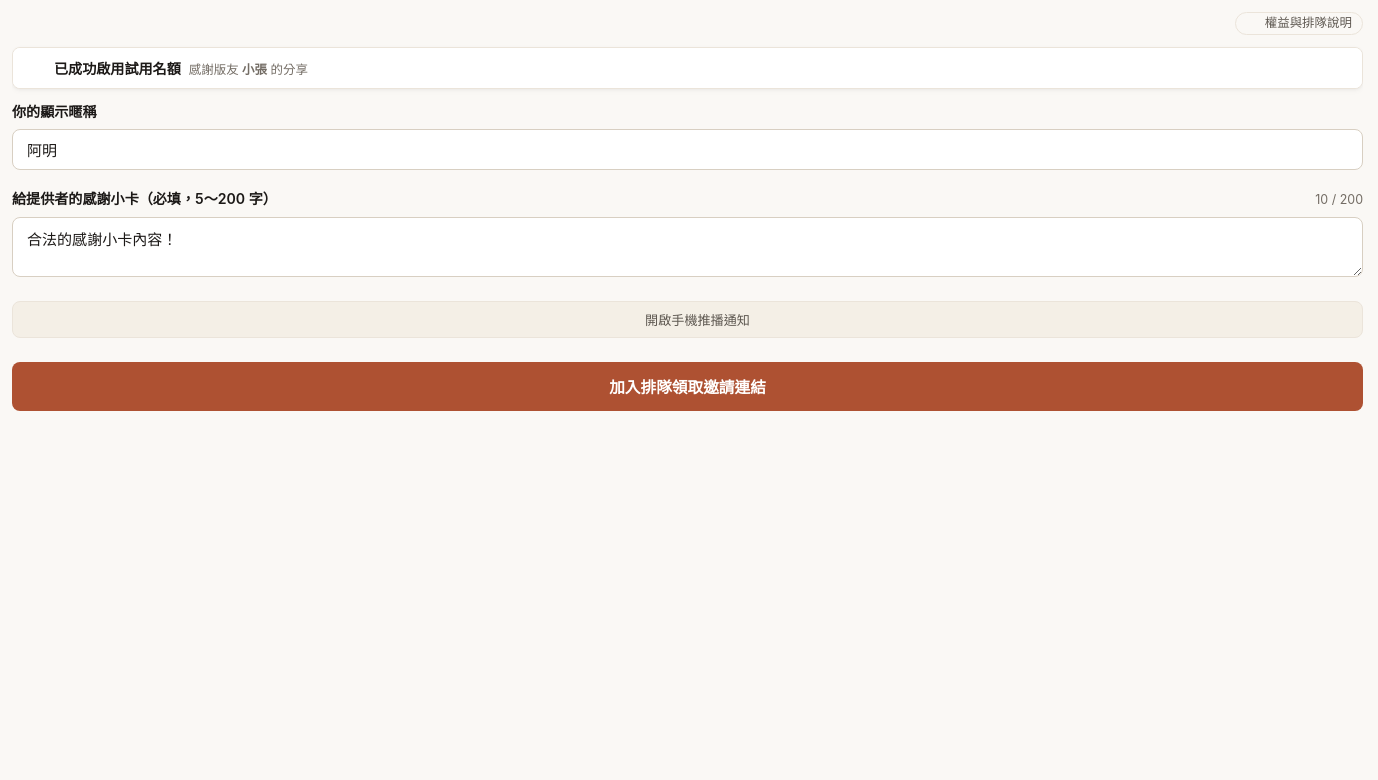
Test: ReceiverPanel 領取歷史卡 › 預設收合，點擊摘要列後展開邀請連結與感謝小卡，再點一次收合
Check: the text "https://claude.ai/referral/rNFlbuU0OA" is not shown
Step 1. Click the button "已成功啟用試用名額 感謝版友 小張 的分享" → [117, 68], box [13,48,1362,88]
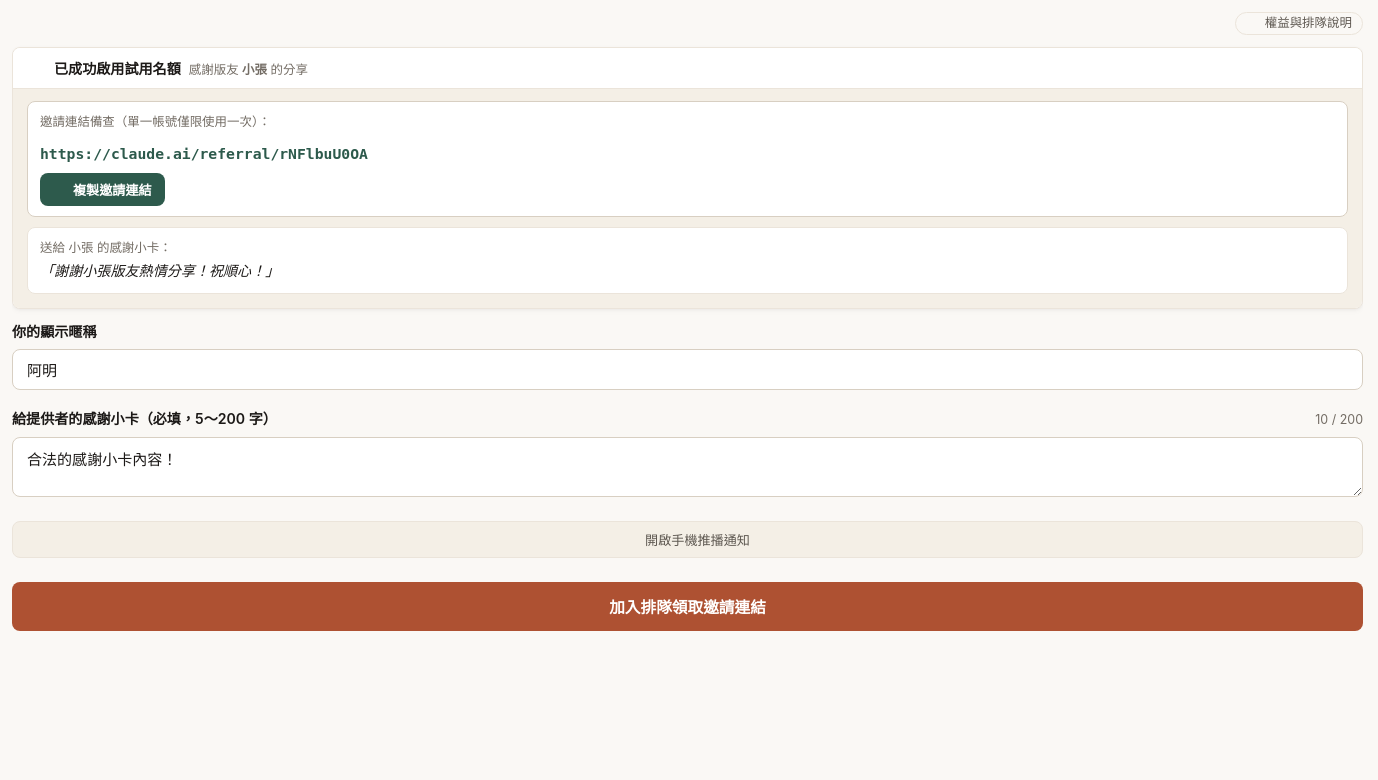
Check: the text "https://claude.ai/referral/rNFlbuU0OA" is shown, box [40,145,368,162]
Check: the text "送給 小張 的感謝小卡：" is shown, box [40,240,172,256]
Check: the text "「謝謝小張版友熱情分享！祝順心！」" is shown, box [40,262,279,280]
Step 2. Click the button "已成功啟用試用名額 感謝版友 小張 的分享" → [117, 68], box [13,48,1362,88]
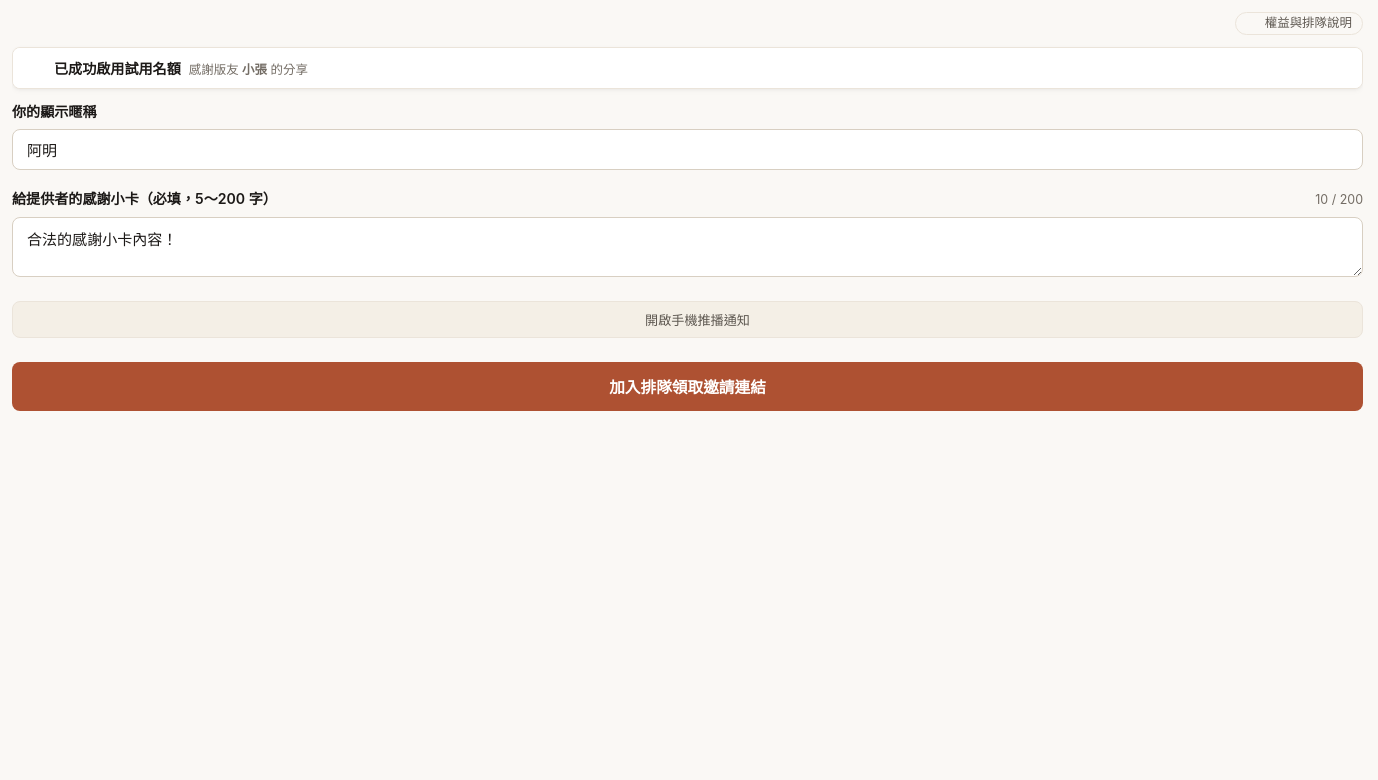
Check: the text "https://claude.ai/referral/rNFlbuU0OA" is gone
